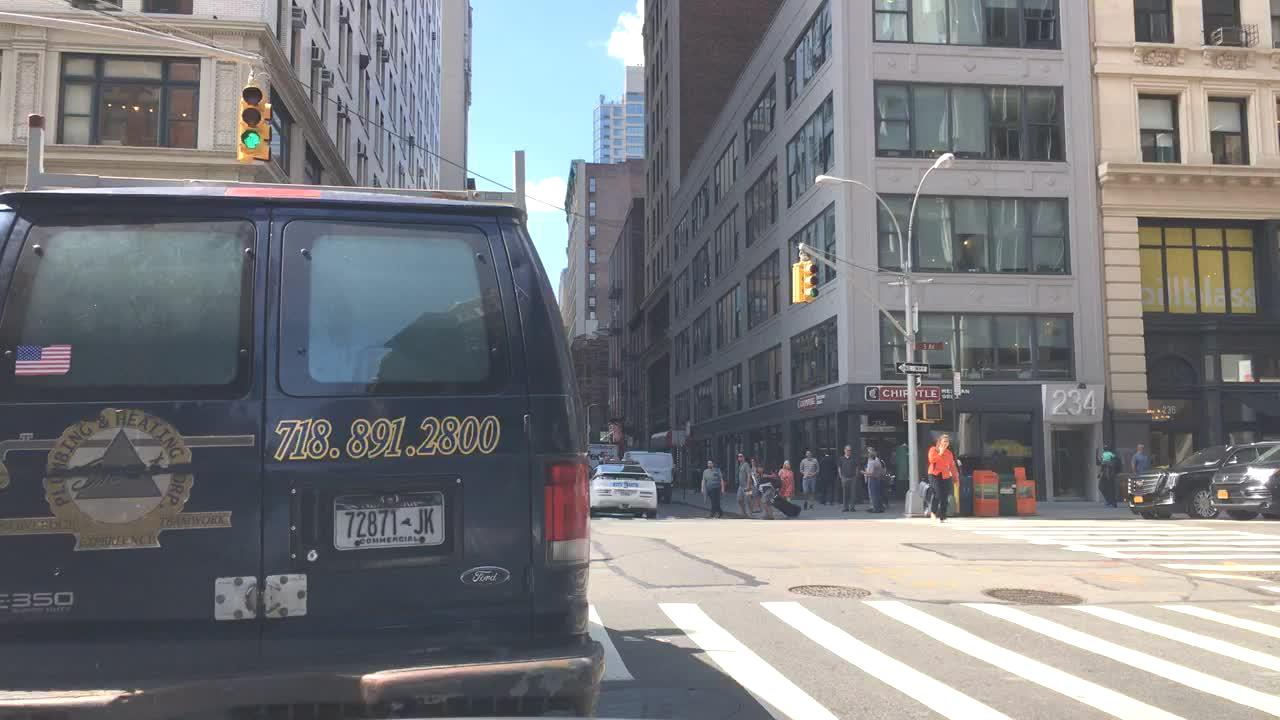ford: (455, 559, 517, 591)
